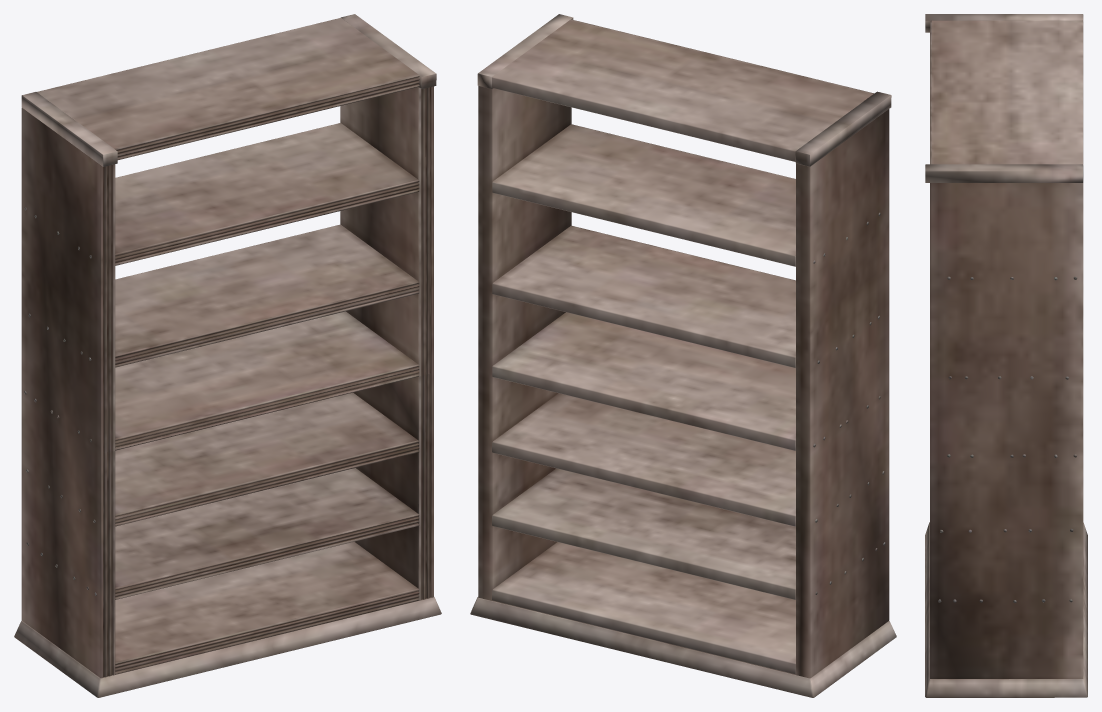
Rendered from ph-wooden-bookshelf-worn.lod1.glb.
The picture shows the model from 3 angles, left to right: view 1: azimuth 30°, elevation 25°; view 2: azimuth 150°, elevation 25°; view 3: azimuth 270°, elevation 25°; orthographic projection. The views are drawn at different scales.
Parts seen in each view (by area): view 1: wooden_bookshelf_worn; view 2: wooden_bookshelf_worn; view 3: wooden_bookshelf_worn.
Boxes of the visible parts, x1=… form: wooden_bookshelf_worn: x1=14, y1=14, x2=441, y2=697; wooden_bookshelf_worn: x1=470, y1=14, x2=896, y2=697; wooden_bookshelf_worn: x1=925, y1=14, x2=1087, y2=697.
Size of the model in its own units: 1.37 by 2.06 by 0.5814.
1 material, 1 textured.
